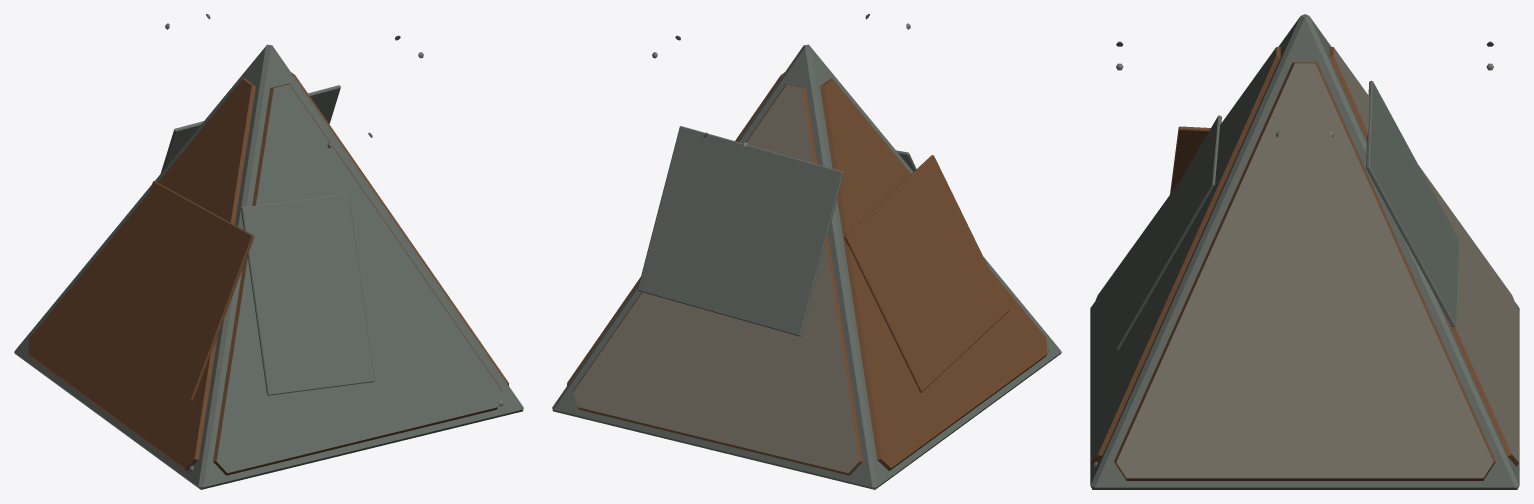
The picture shows the model from 3 angles, left to right: view 1: azimuth 30°, elevation 25°; view 2: azimuth 150°, elevation 25°; view 3: azimuth 270°, elevation 25°; orthographic projection. The views are drawn at different scales.
Visible parts, largest first — view 1: R4B_Pyramid; view 2: R4B_Pyramid; view 3: R4B_Pyramid.
Part boxes in pixels (x1,y1,x2,y2): R4B_Pyramid: (14,14,523,489); R4B_Pyramid: (552,14,1061,489); R4B_Pyramid: (1090,14,1519,489).
Size of the model in its own units: 0.4997 by 0.4988 by 0.4997.
